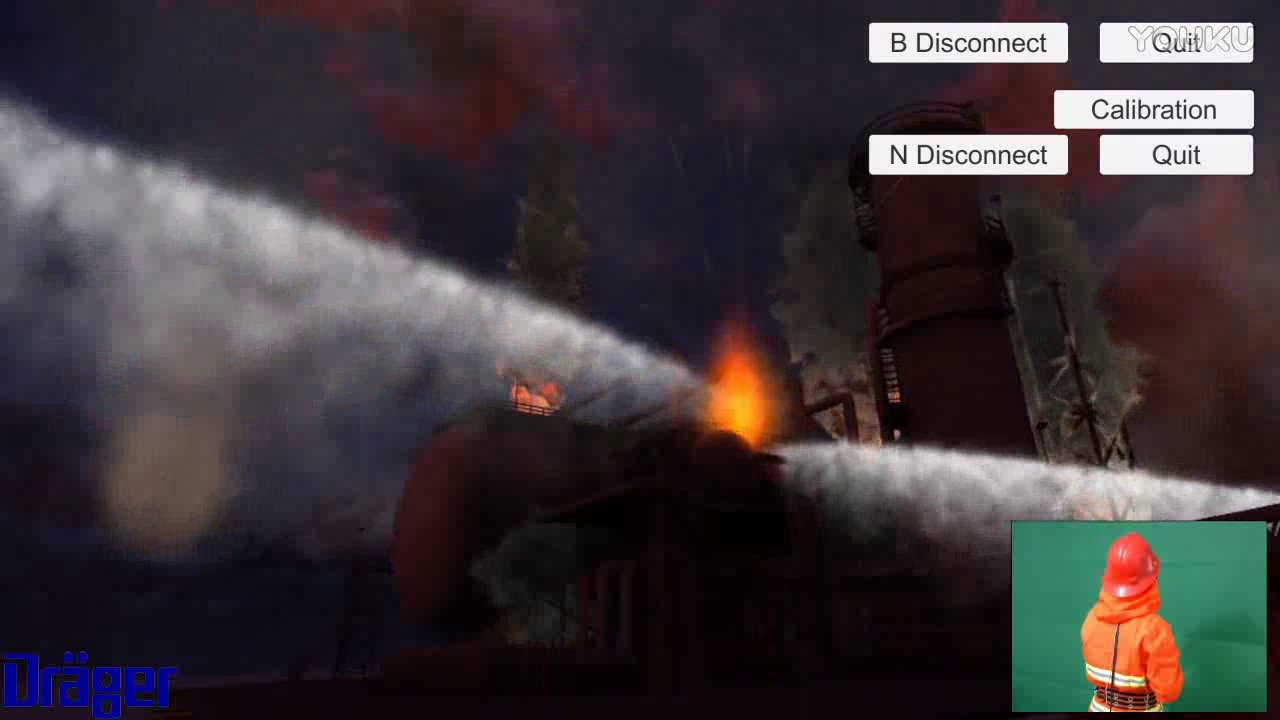fire: (698, 311, 774, 459)
